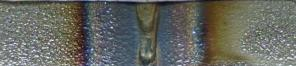soldas: (73, 1, 216, 66)
